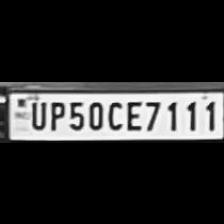0: (86, 97, 104, 130)
1: (180, 97, 200, 131), (198, 97, 218, 131), (162, 98, 180, 132)
5: (65, 97, 84, 130)
7: (142, 97, 160, 131)
C: (105, 97, 123, 130)
E: (122, 97, 142, 131)
P: (46, 97, 64, 131)
U: (26, 98, 46, 130)
